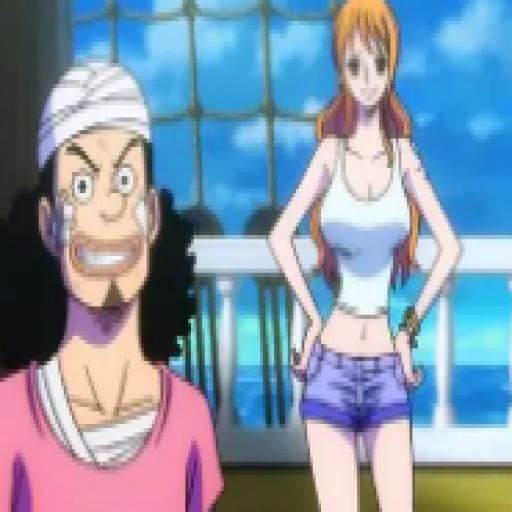Nami: (266, 0, 466, 512)
Usopp: (0, 54, 232, 512)
